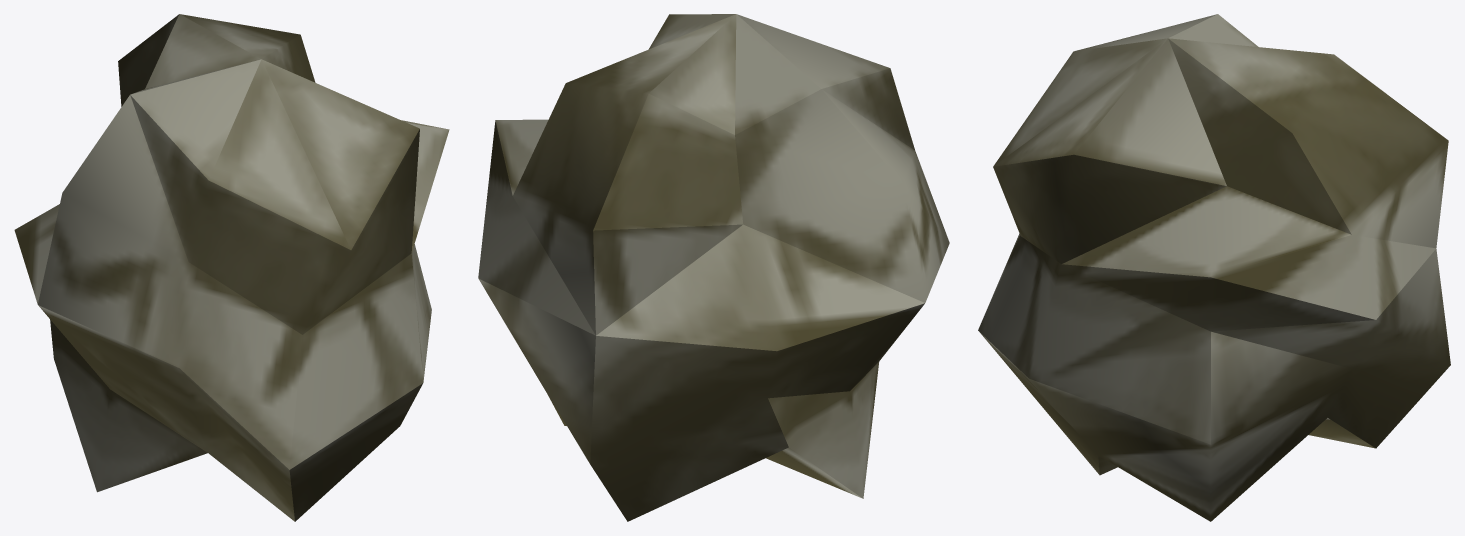
Rendered from TrashBall.fbx.
3 views of the same model, side by side, from view 1: azimuth 30°, elevation 25°; view 2: azimuth 150°, elevation 25°; view 3: azimuth 270°, elevation 25° (orthographic). The views are drawn at different scales.
Visible parts, largest first — view 1: TrashBall; view 2: TrashBall; view 3: TrashBall.
Part boxes in pixels (x1=…): TrashBall: x1=14, y1=14, x2=449, y2=521; TrashBall: x1=478, y1=14, x2=949, y2=521; TrashBall: x1=978, y1=14, x2=1450, y2=521.
Bounding box in the file's own units: 10.17 × 10.33 × 10.12.
